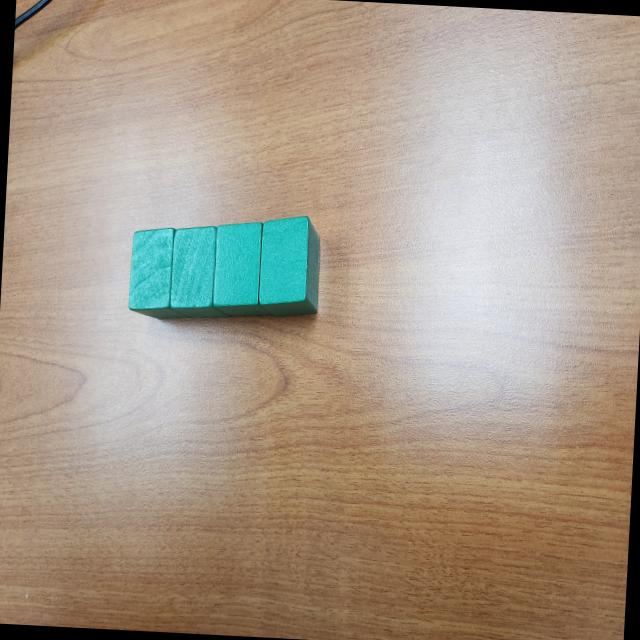green: (257, 212, 323, 322), (211, 218, 278, 322), (127, 226, 197, 323), (170, 224, 236, 322)
